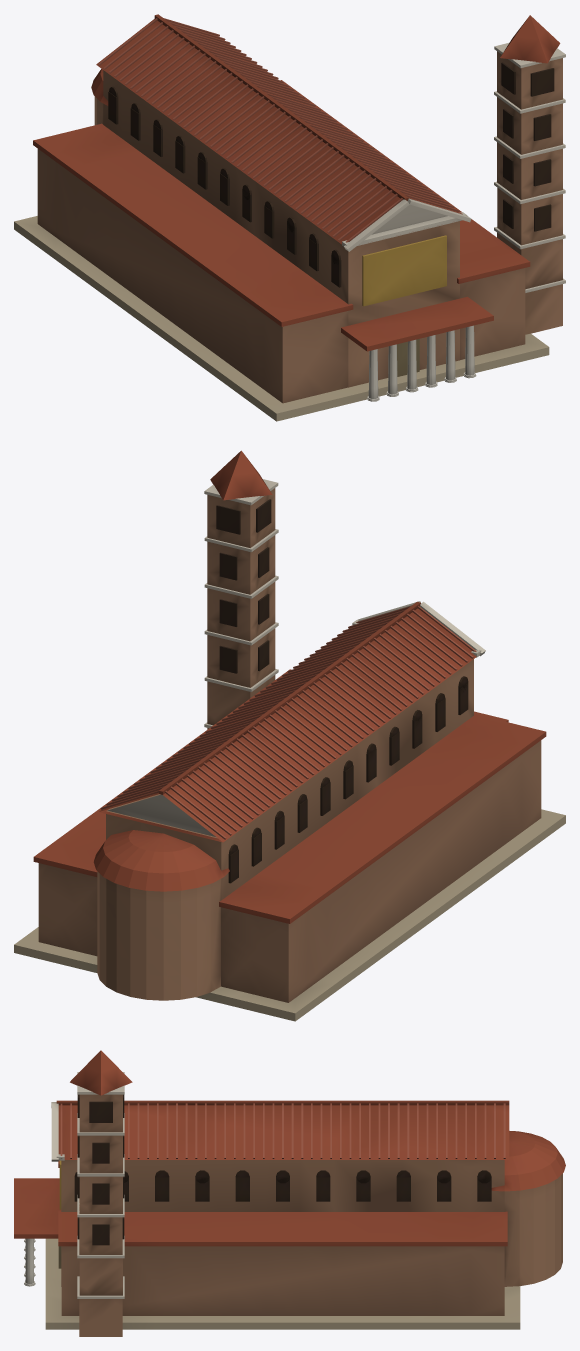
Rendered from santa-maria-in-trastevere.glb.
The picture shows the model from 3 angles, top to bottom: view 1: azimuth 30°, elevation 25°; view 2: azimuth 150°, elevation 25°; view 3: azimuth 270°, elevation 25°; orthographic projection. The views are drawn at different scales.
Visible parts, largest first — view 1: p2_campanile, p1_porch, p0_base; view 2: p2_campanile, p1_porch, p0_base; view 3: p2_campanile, p1_porch, p0_base.
Part boxes in pixels (<box>): p2_campanile: <box>33,14,565,351</box>; p1_porch: <box>37,70,525,403</box>; p0_base: <box>14,216,549,421</box>; p2_campanile: <box>33,450,546,923</box>; p1_porch: <box>38,659,541,1002</box>; p0_base: <box>14,809,565,1021</box>; p2_campanile: <box>14,1050,565,1336</box>; p1_porch: <box>24,1160,562,1315</box>; p0_base: <box>45,1238,520,1329</box>.
Bounding box in the file's own units: 41.5 × 39.7 × 69.76.
